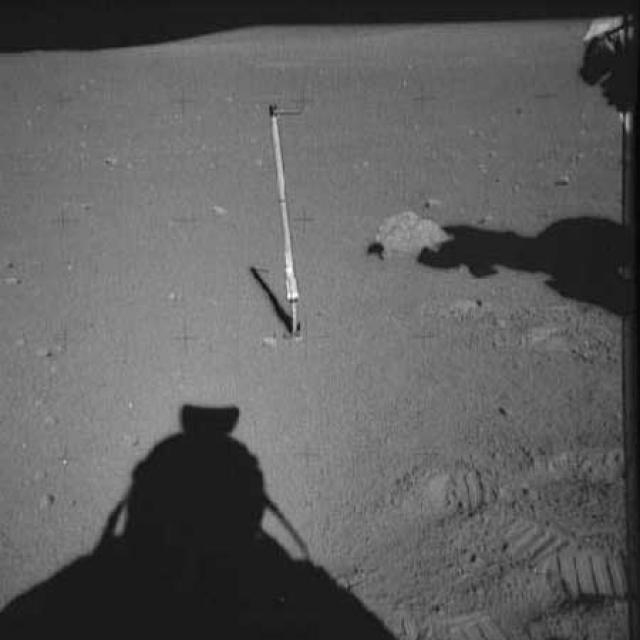rock: (366, 212, 452, 260), (550, 167, 585, 193), (465, 210, 509, 227), (414, 188, 446, 210), (205, 201, 238, 222)
